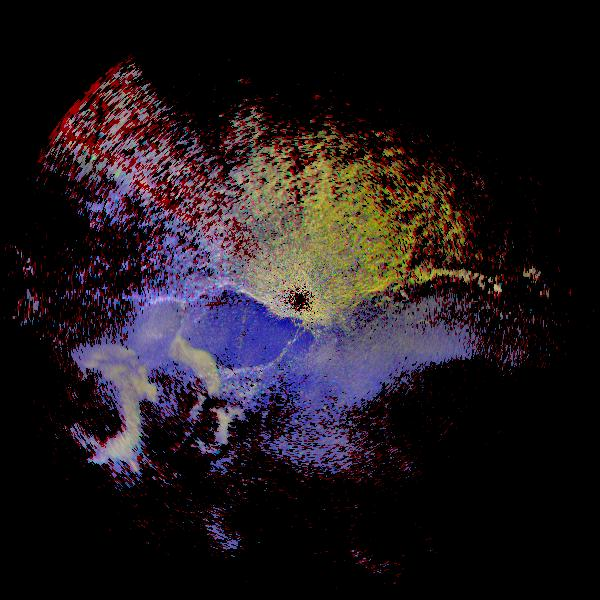roost: (22, 343, 157, 478), (194, 404, 233, 443)
